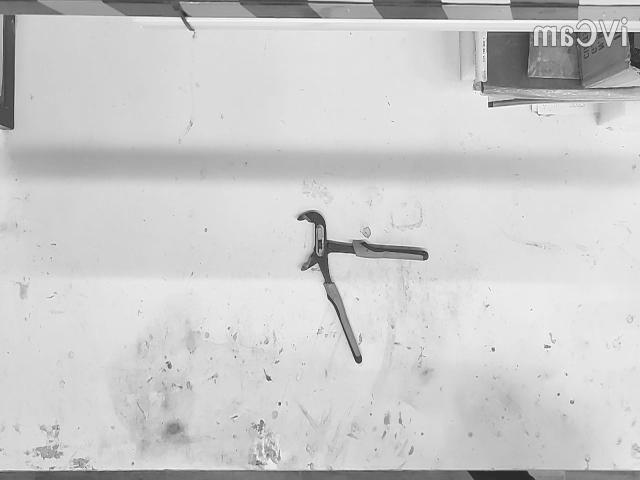Gas wrench: (298, 210, 429, 363)
